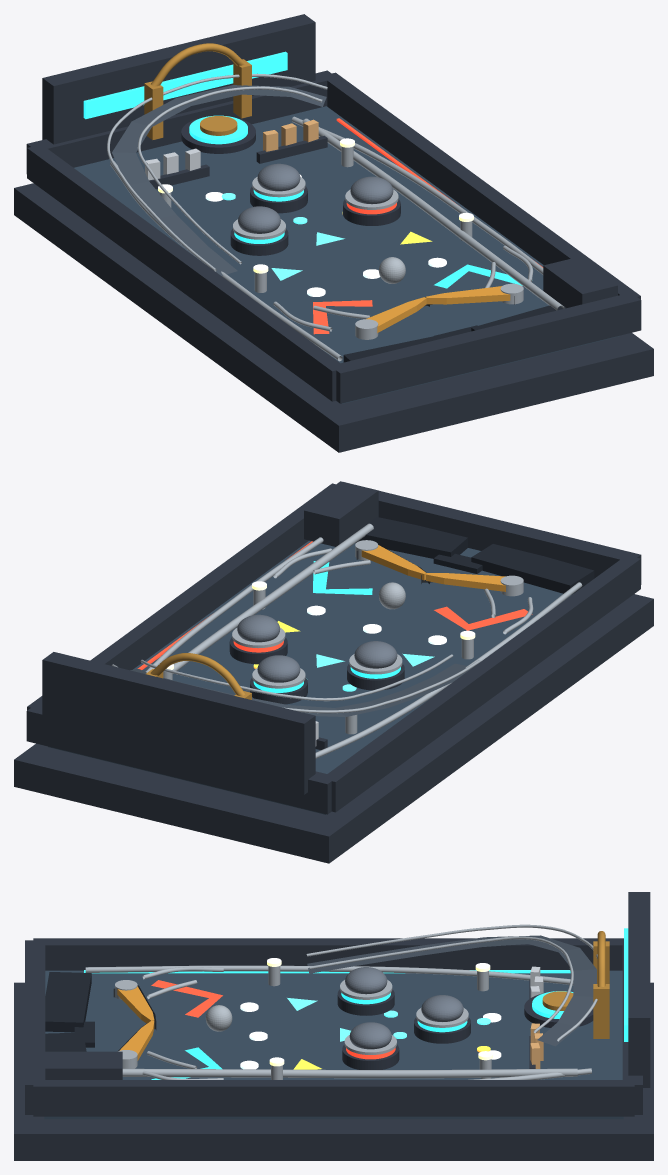
The model's file is infinite-pinball-base-v4.glb.
3 renders of one model, top to bottom at view 1: azimuth 30°, elevation 25°; view 2: azimuth 150°, elevation 25°; view 3: azimuth 270°, elevation 25°, orthographic.
Visible parts, largest first — view 1: Playfield, Cabinet_Base, Rail_Left, Back_Crest, Rail_Bottom, Rail_Right, Ramp_Main, Rail_Top, Back_Crest_Light, Plunger_Housing, Shooter_Lane_Rail, Guide_Right (+22 smaller); view 2: Cabinet_Base, Playfield, Back_Crest, Rail_Left, Rail_Right, Rail_Bottom, Rail_Top, Plunger_Housing, Apron_Left, Apron_Right, Ramp_Main, Shooter_Lane_Rail (+17 smaller); view 3: Playfield, Cabinet_Base, Rail_Right, Rail_Left, Ramp_Main, Back_Crest, Shooter_Lane_Rail, Rail_Bottom, Apron_Left, Guide_Left, Plunger_Housing, Ramp_Main_Rail_L (+24 smaller).
Boxes of the visible parts, <box> form: Playfield: <box>74,106,619,403</box>; Cabinet_Base: <box>14,183,653,452</box>; Rail_Left: <box>27,144,346,401</box>; Back_Crest: <box>42,14,315,144</box>; Rail_Bottom: <box>330,294,641,403</box>; Rail_Right: <box>322,72,640,299</box>; Ramp_Main: <box>112,85,326,275</box>; Rail_Top: <box>26,70,336,173</box>; Back_Crest_Light: <box>83,51,287,119</box>; Plunger_Housing: <box>543,257,617,307</box>; Shooter_Lane_Rail: <box>302,118,564,310</box>; Guide_Right: <box>291,116,543,274</box>; Cabinet_Base: <box>14,594,653,863</box>; Playfield: <box>48,540,572,814</box>; Back_Crest: <box>42,652,315,794</box>; Rail_Left: <box>322,555,640,812</box>; Rail_Right: <box>27,483,336,710</box>; Rail_Bottom: <box>330,481,641,584</box>; Rail_Top: <box>26,704,332,814</box>; Plunger_Housing: <box>304,482,378,546</box>; Apron_Left: <box>471,544,594,594</box>; Apron_Right: <box>356,517,467,558</box>; Ramp_Main: <box>130,663,472,716</box>; Shooter_Lane_Rail: <box>172,523,373,674</box>; Playfield: <box>44,970,623,1119</box>; Cabinet_Base: <box>14,982,653,1160</box>; Rail_Right: <box>33,1080,634,1116</box>; Rail_Left: <box>33,938,623,970</box>; Ramp_Main: <box>307,935,596,1046</box>; Back_Crest: <box>628,892,650,1087</box>; Shooter_Lane_Rail: <box>122,1068,577,1078</box>; Rail_Bottom: <box>25,940,45,1114</box>; Apron_Left: <box>45,972,91,1032</box>; Guide_Left: <box>85,965,573,985</box>; Plunger_Housing: <box>45,1051,122,1079</box>; Ramp_Main_Rail_L: <box>309,936,573,1033</box>.
Bounding box in the file's own units: 3.9 × 1.78 × 6.96.
